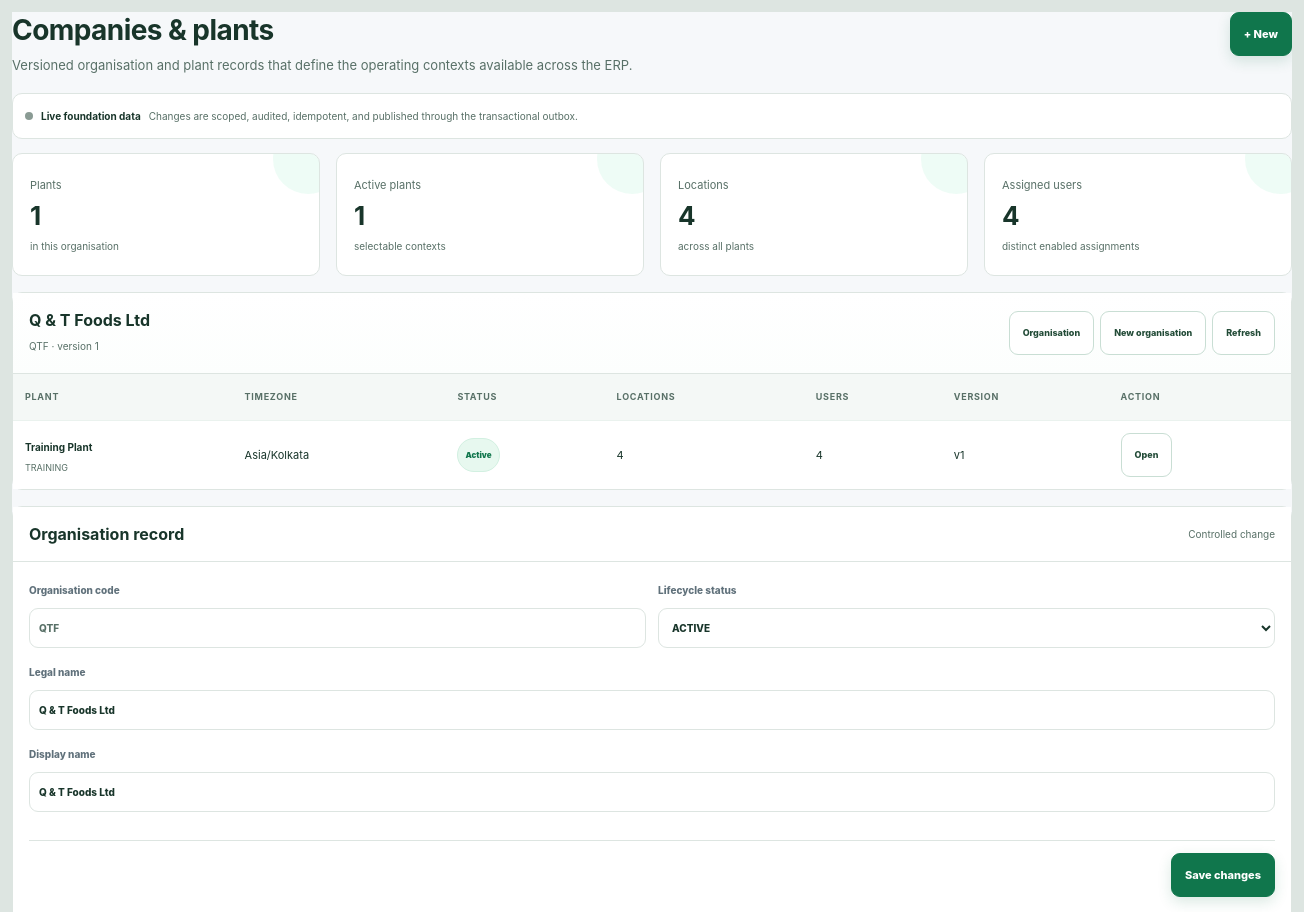
Test case: foundation administration workspaces › creates a plant from the live organisation workspace
The width and height of the screenshot is (1304, 912).
Expected: the text "Training Plant" is shown, x1=25 y1=441 x2=92 y2=453
Click the button "+ New".
click(1261, 34)  # box x1=1230 y1=12 x2=1292 y2=56
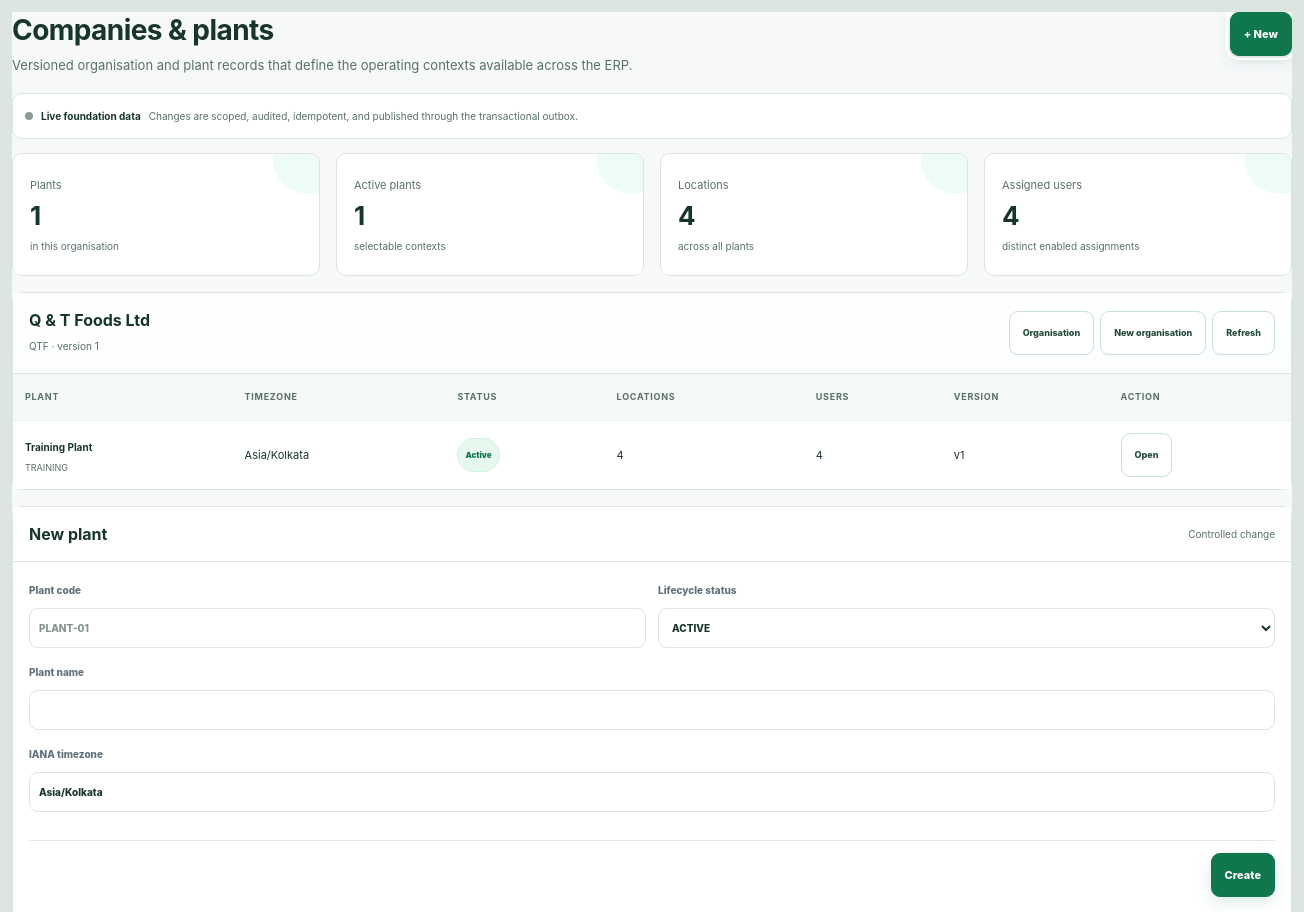
Type "pilot" into the field labelled "Plant code".
click(338, 628); type("pilot")  # box x1=29 y1=608 x2=646 y2=648
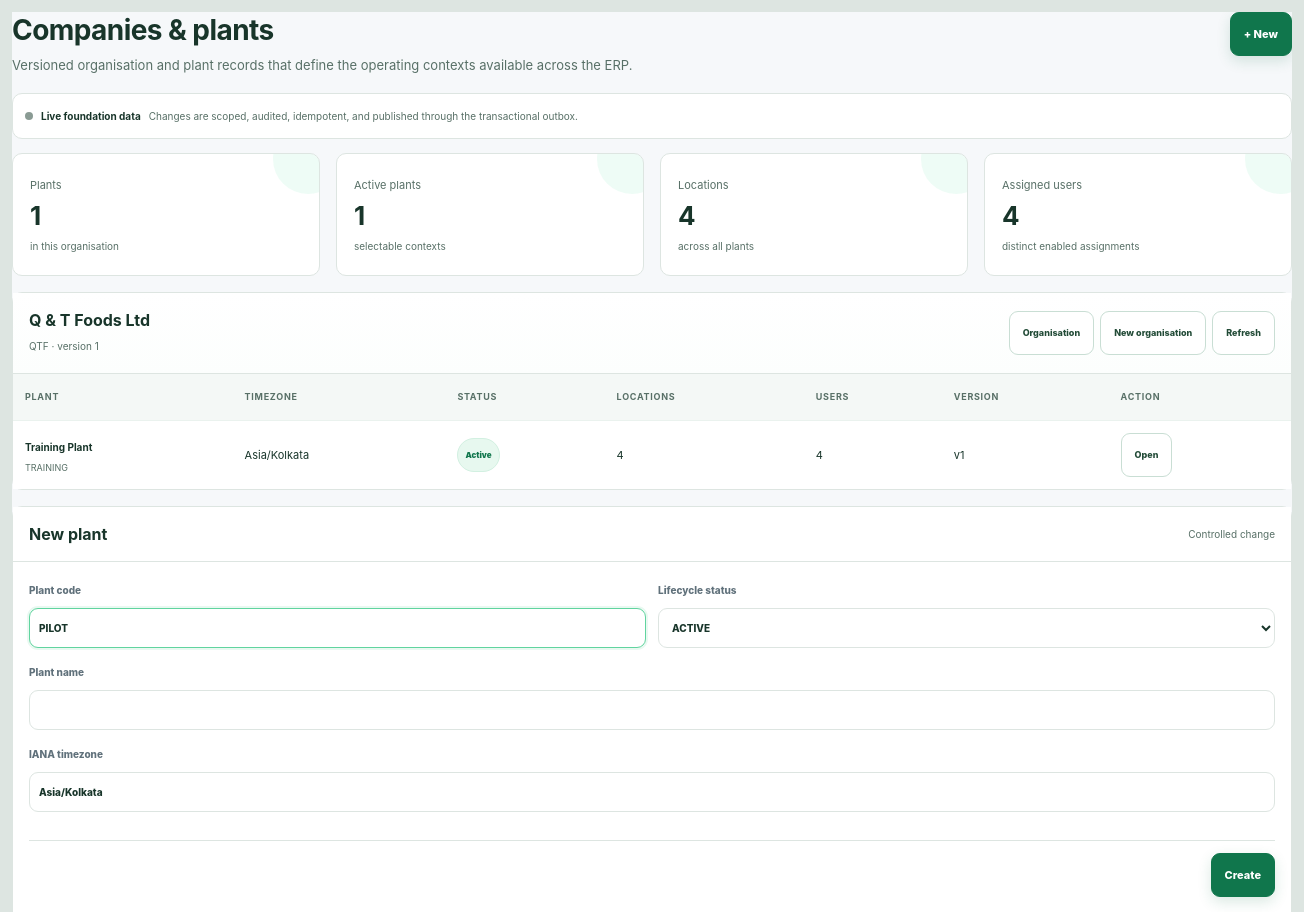
Type "Pilot Plant" into the field labelled "Plant name".
click(652, 710); type("Pilot Plant")  # box x1=29 y1=690 x2=1275 y2=730
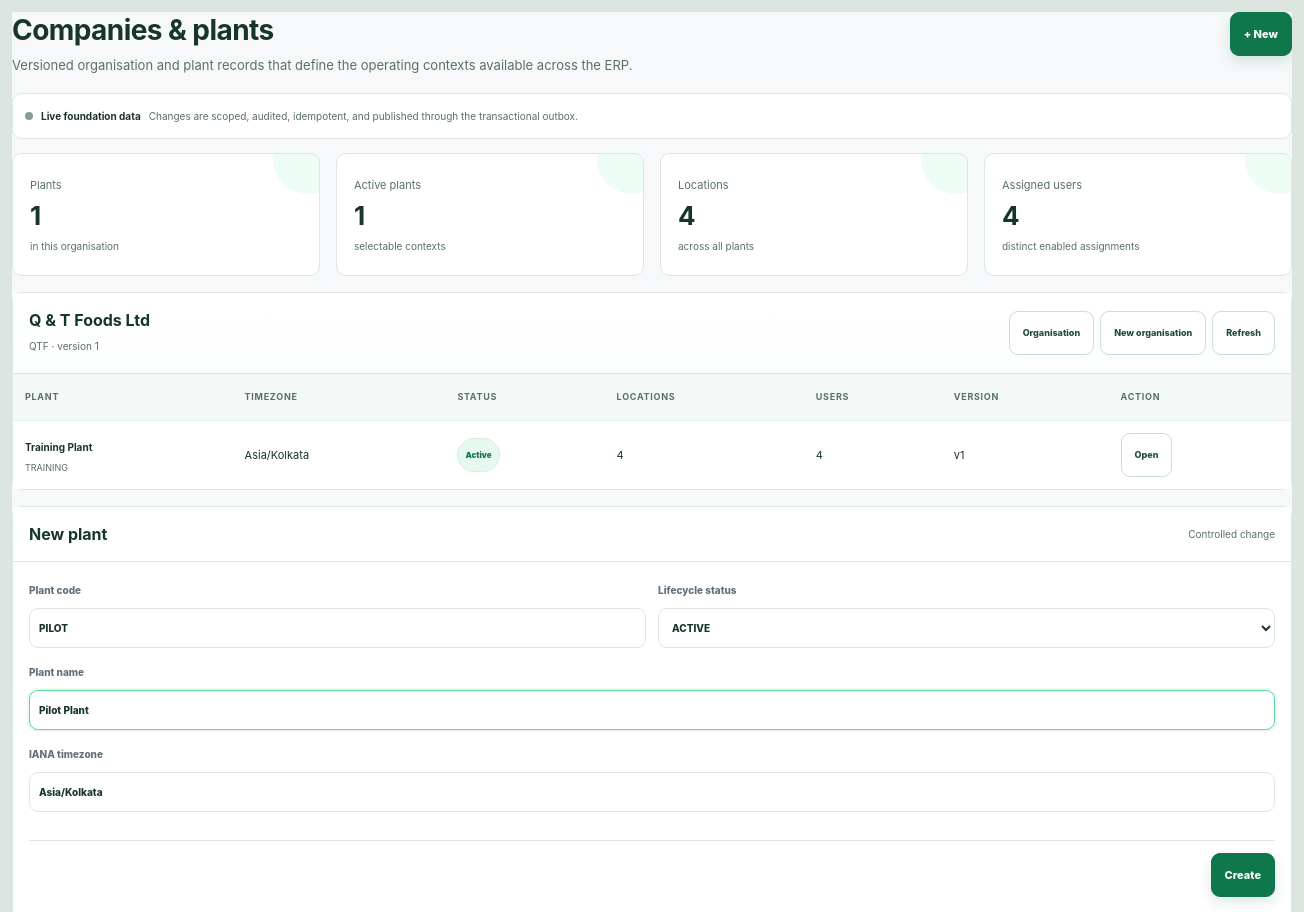
Click the button "Create".
click(1243, 875)  # box x1=1211 y1=853 x2=1275 y2=897
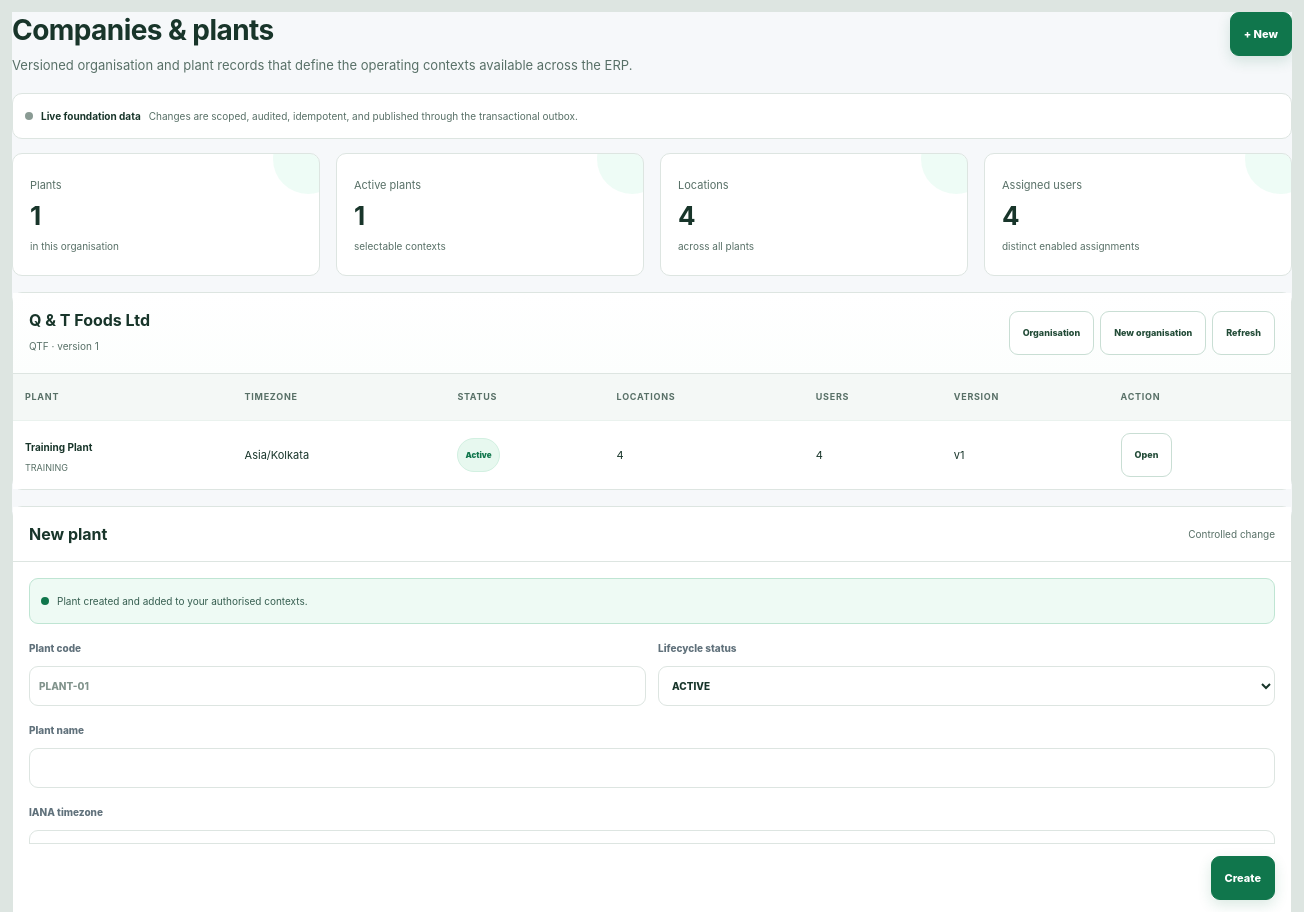
Expected: the message shows "Plant created", x1=57 y1=595 x2=308 y2=607
